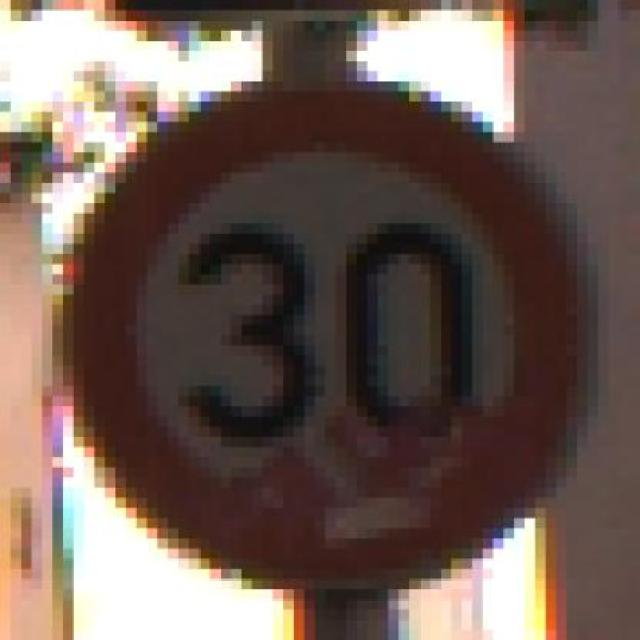Speed Limit 30 KMPh: (21, 61, 630, 619)
